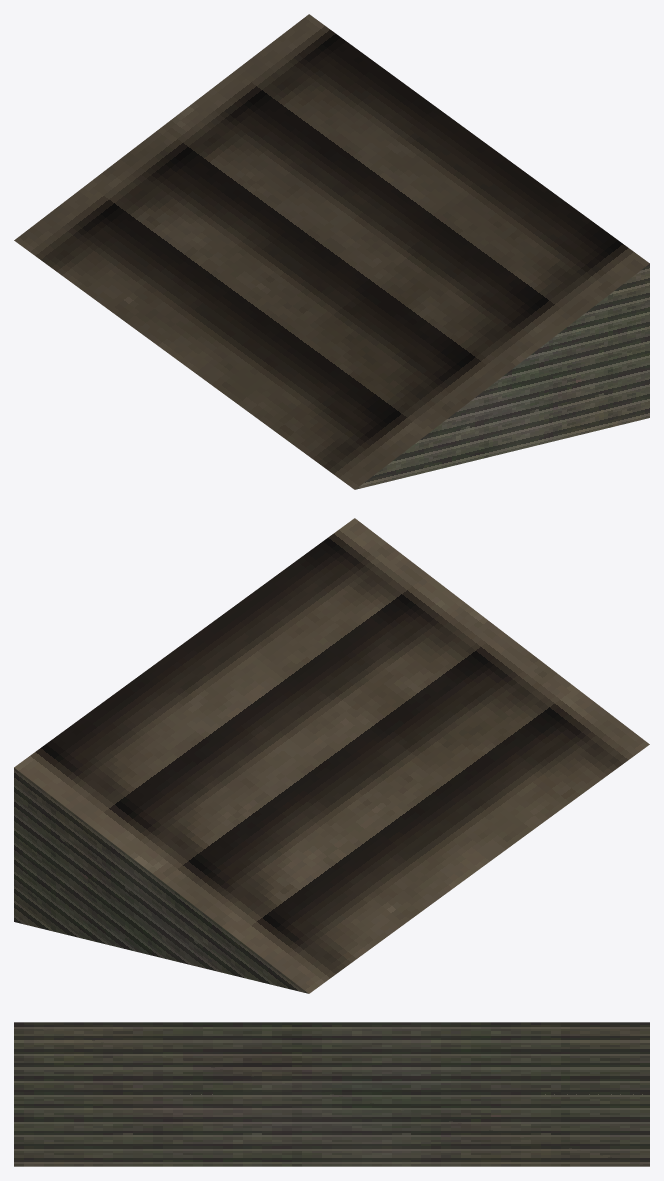
File: stairs_wide.glb
The picture shows the model from 3 angles, top to bottom: view 1: azimuth 30°, elevation 25°; view 2: azimuth 150°, elevation 25°; view 3: azimuth 270°, elevation 25°; orthographic projection. The views are drawn at different scales.
Parts seen in each view (by area): view 1: Cube.065; view 2: Cube.065; view 3: Cube.065.
Boxes of the visible parts, box(x1,y1,x2,y2) form: Cube.065: box(14, 14, 649, 489); Cube.065: box(14, 518, 649, 993); Cube.065: box(14, 1022, 649, 1166).
Size of the model in its own units: 4 by 2 by 8.
Materials: 1 (1 with a texture image).
